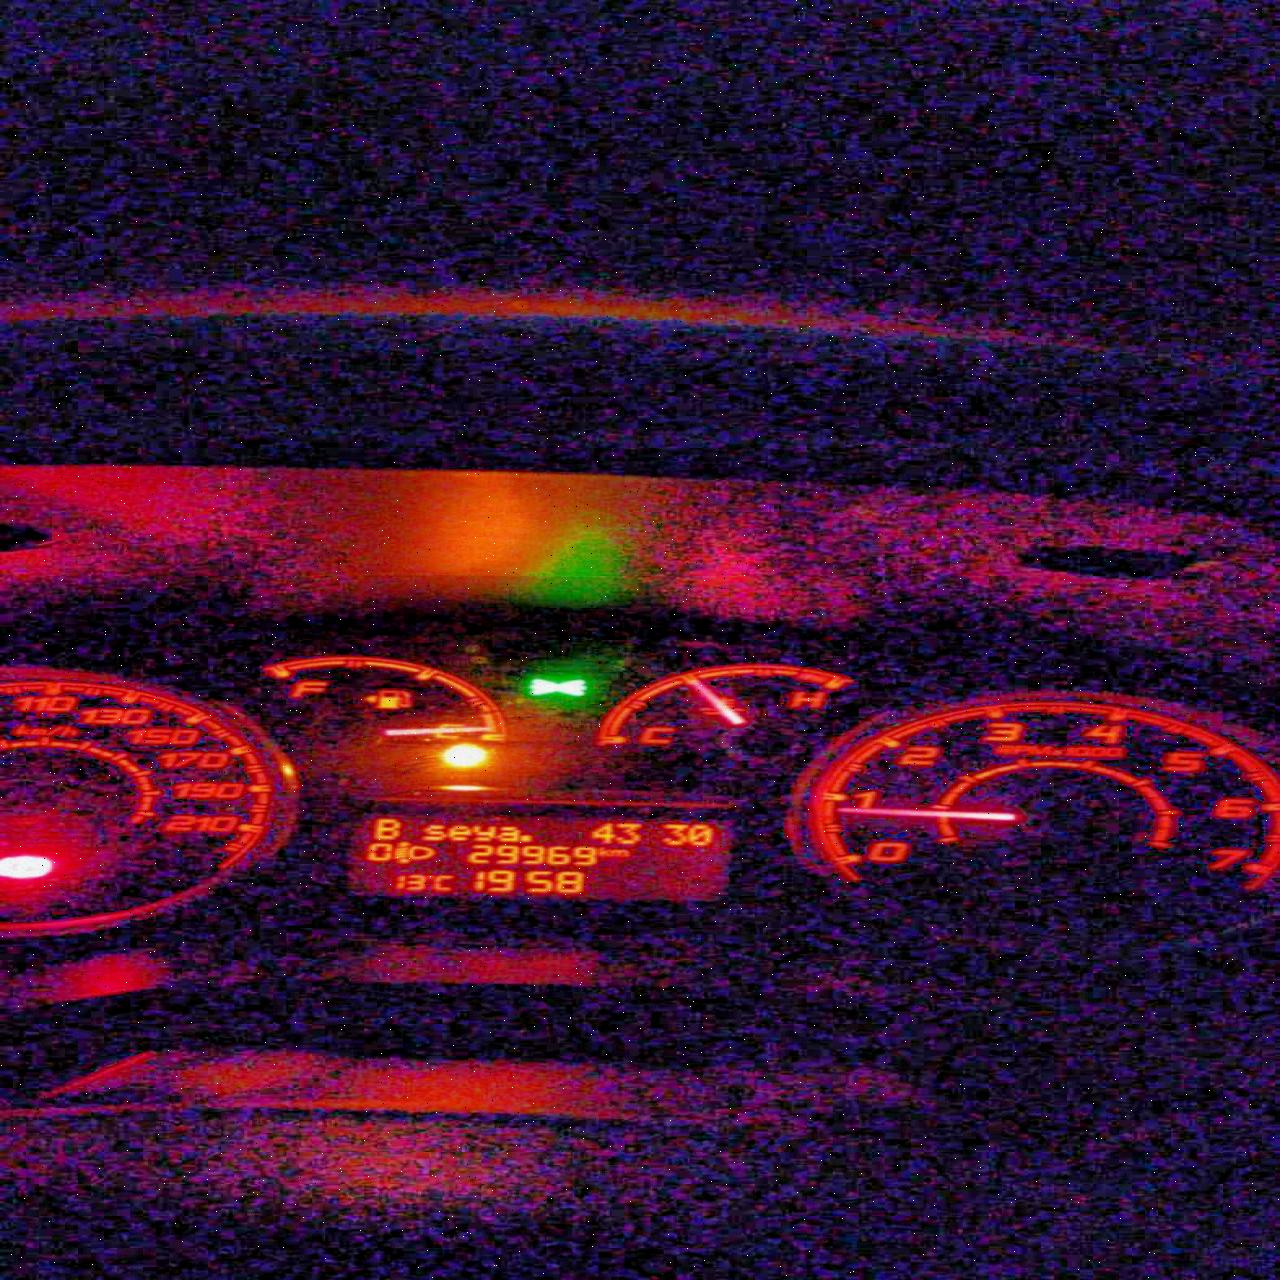-: (519, 832, 533, 842)
0: (688, 823, 714, 847), (365, 840, 389, 863)
1: (471, 869, 484, 893), (394, 873, 406, 892)
2: (465, 843, 492, 864)
3: (615, 821, 641, 847), (662, 823, 686, 846), (406, 873, 423, 891)
4: (586, 822, 613, 844)
5: (522, 869, 553, 893)
6: (545, 844, 571, 864)
8: (554, 870, 586, 892)
9: (486, 869, 517, 892), (571, 844, 595, 865), (495, 843, 519, 863), (520, 844, 544, 864)
X: (373, 817, 402, 839), (433, 872, 456, 893), (497, 824, 520, 843), (423, 823, 444, 840), (474, 824, 495, 840), (449, 823, 468, 840), (597, 845, 610, 857), (610, 849, 631, 856)
odometer: (358, 816, 717, 903)
